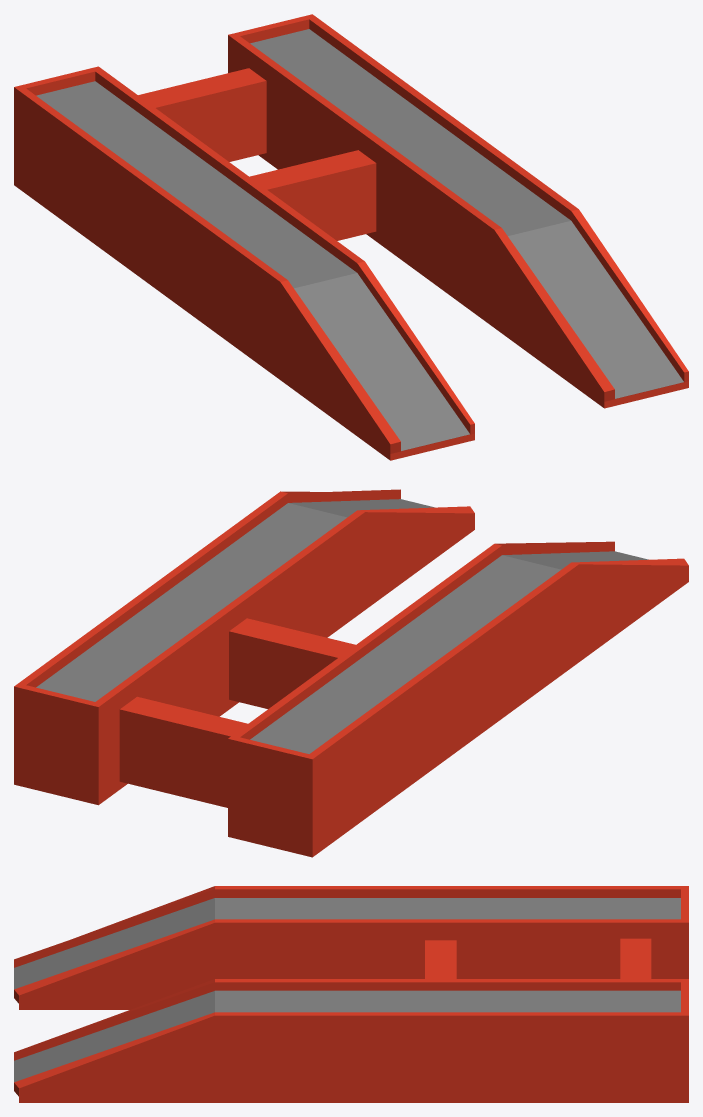
The model's file is CarRamp.fbx.
3 views of the same model, one above another, from view 1: azimuth 30°, elevation 25°; view 2: azimuth 150°, elevation 25°; view 3: azimuth 270°, elevation 25° (orthographic). The views are drawn at different scales.
Visible parts, largest first — view 1: Cube.001; view 2: Cube.001; view 3: Cube.001.
Part boxes in pixels (<box>): Cube.001: <box>14,14,688,460</box>; Cube.001: <box>14,489,688,857</box>; Cube.001: <box>14,886,688,1102</box>.
Bounding box in the file's own units: 706 × 222 × 1553.
